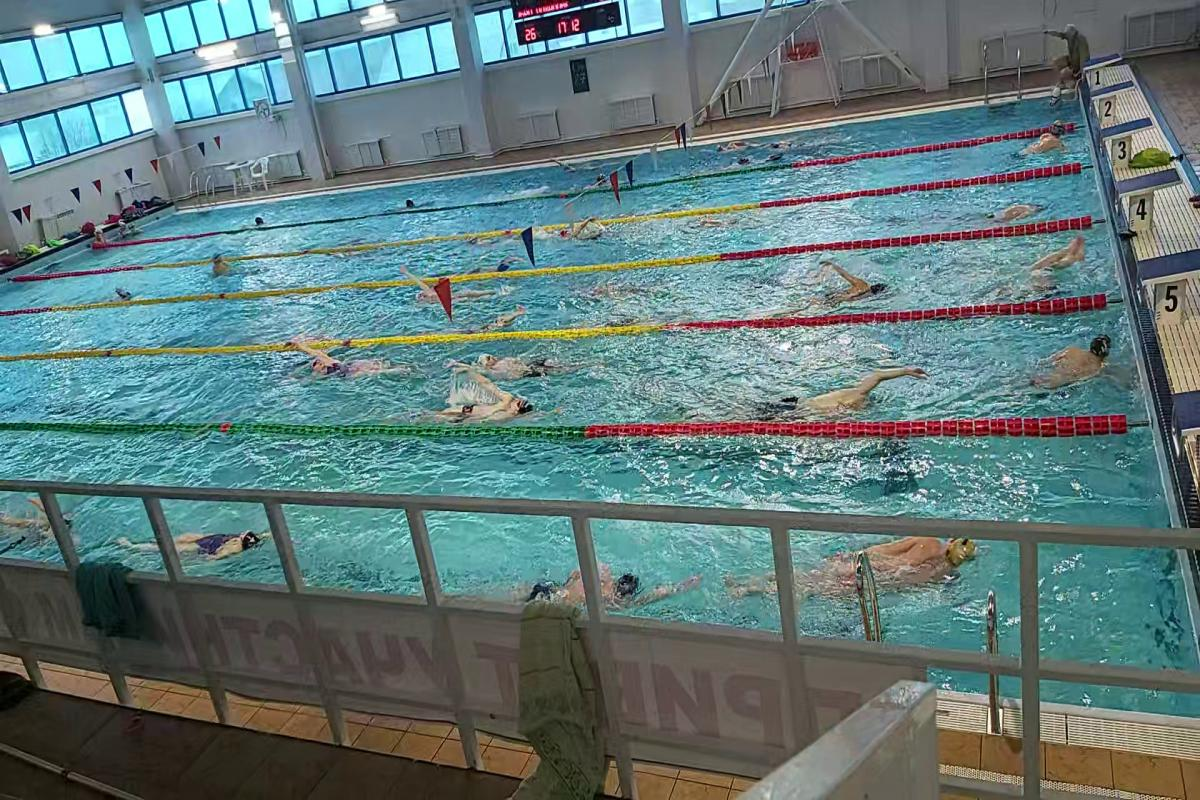swimmer: (754, 525, 986, 597), (491, 554, 712, 612), (117, 503, 267, 573), (794, 366, 935, 425), (1038, 317, 1122, 407), (291, 334, 409, 387), (459, 343, 602, 384), (796, 255, 896, 304), (441, 383, 553, 423), (392, 262, 498, 304), (1010, 247, 1092, 297), (1027, 124, 1075, 162), (475, 311, 524, 333), (215, 243, 239, 280)
